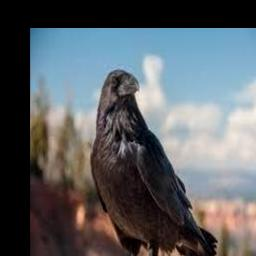Crow: (91, 69, 217, 256)
